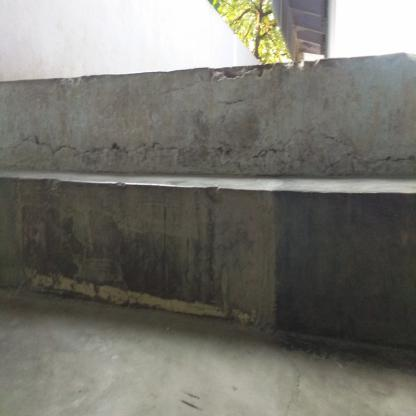stairs: (5, 50, 404, 347)
